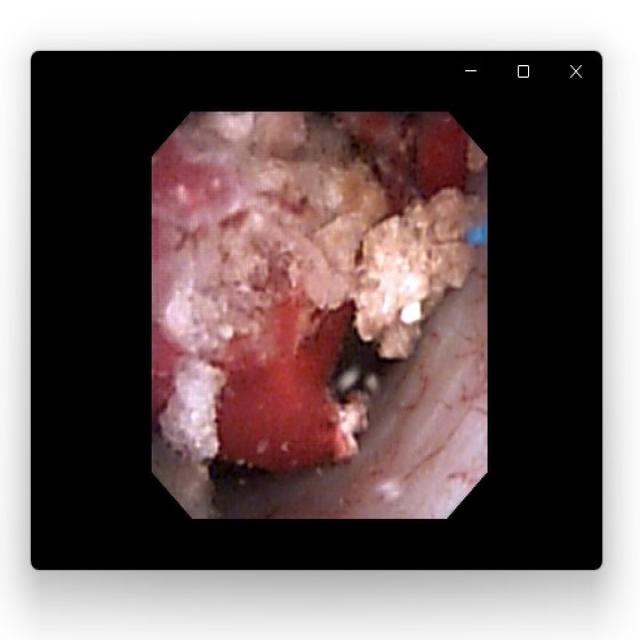stone: (197, 118, 480, 356), (161, 361, 218, 459), (337, 397, 371, 457)
